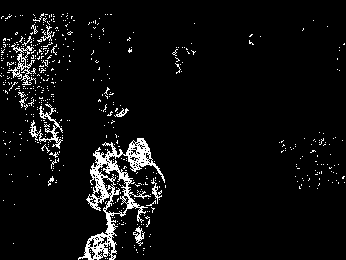person: (126, 138, 164, 254), (86, 141, 128, 238), (34, 103, 63, 184)
